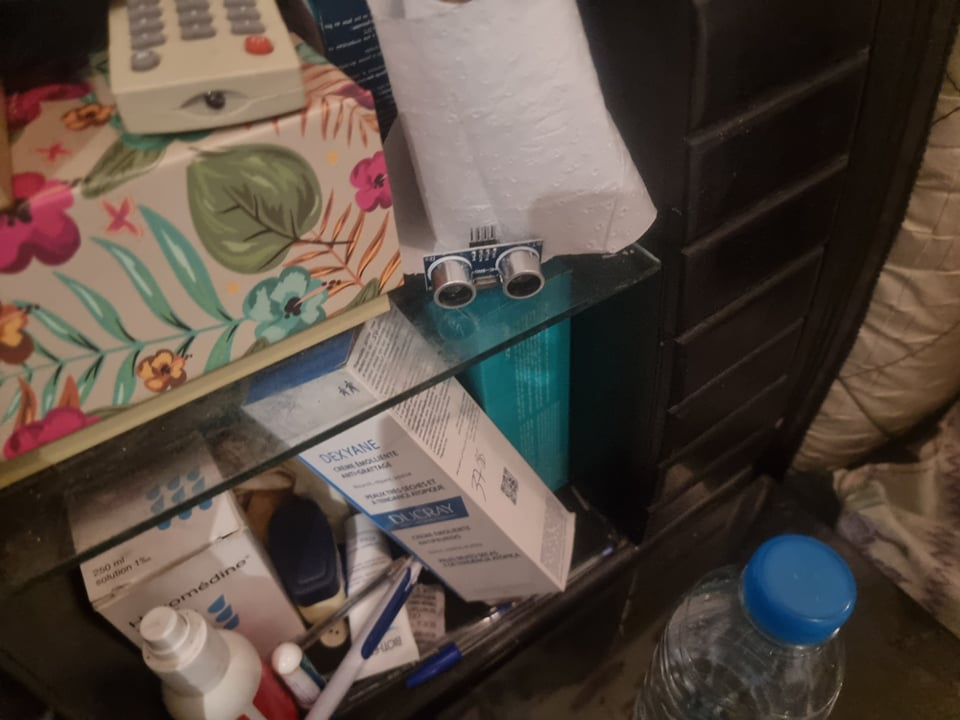SENSOR: (419, 245, 549, 314)
